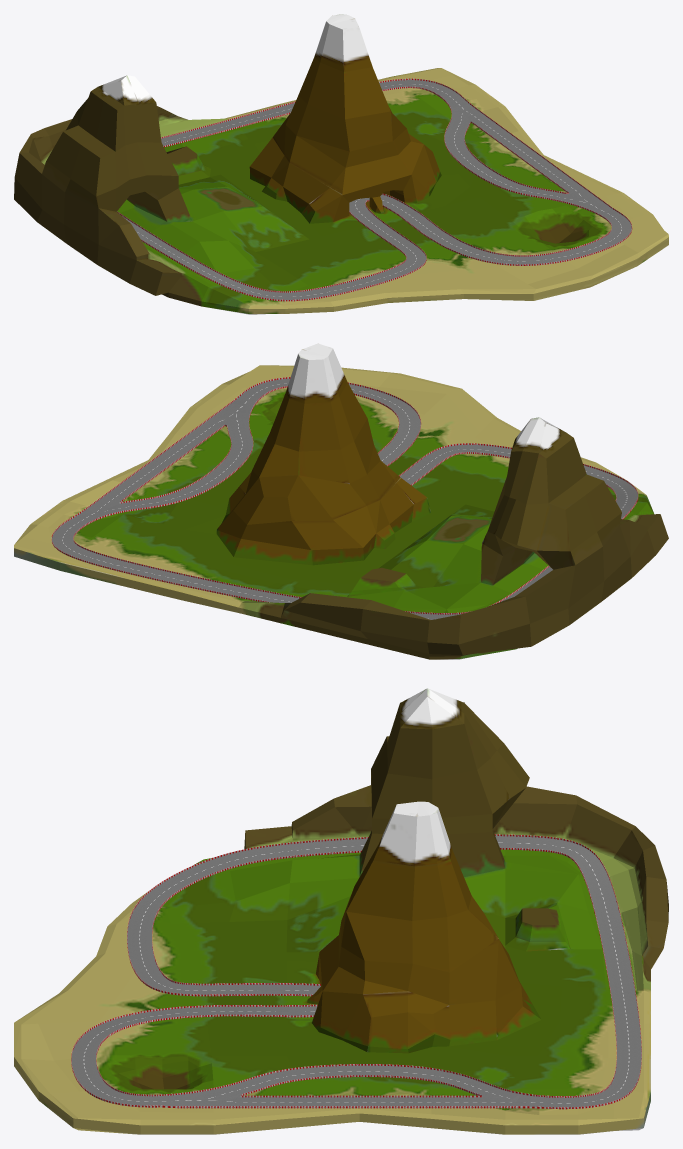
The model's file is mapaPirata.obj.
3 renders of one model, top to bottom at view 1: azimuth 30°, elevation 25°; view 2: azimuth 150°, elevation 25°; view 3: azimuth 270°, elevation 25°, orthographic. The views are drawn at different scales.
Parts seen in each view (by area): view 1: montana.001_montanaH.001, carretera_carreteraH; view 2: montana.001_montanaH.001, carretera_carreteraH; view 3: montana.001_montanaH.001, carretera_carreteraH.
Boxes of the visible parts, x1,y1,x2,y2 form: montana.001_montanaH.001: (14,14,668,314); carretera_carreteraH: (117,78,632,301); montana.001_montanaH.001: (14,343,668,659); carretera_carreteraH: (51,377,638,619); montana.001_montanaH.001: (14,688,668,1134); carretera_carreteraH: (71,834,641,1109).
Bounding box in the file's own units: 1684 × 598 × 1642.
Materials: 2 (2 with a texture image).
